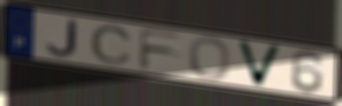6: (289, 48, 325, 95)
C: (88, 24, 135, 65)
F: (137, 27, 187, 72)
J: (44, 19, 79, 59)
O: (187, 36, 232, 81)
V: (234, 38, 285, 89)
